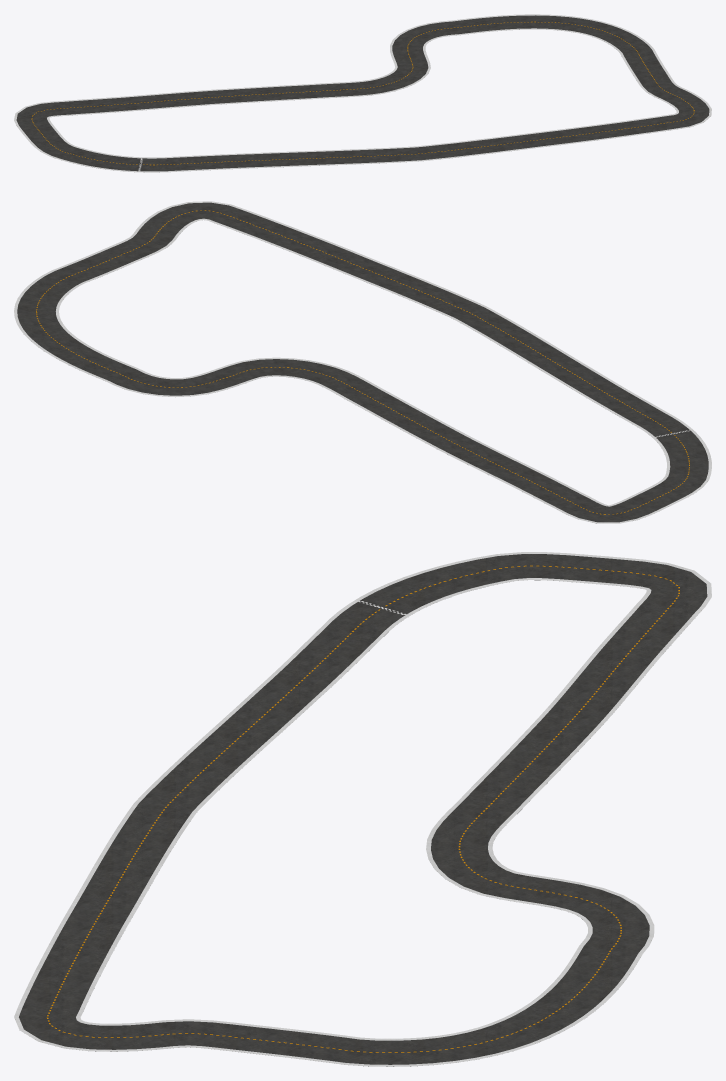
The model's file is 2022_october_open.dae.
The picture shows the model from 3 angles, top to bottom: view 1: azimuth 30°, elevation 25°; view 2: azimuth 150°, elevation 25°; view 3: azimuth 270°, elevation 25°; orthographic projection. The views are drawn at different scales.
Visible parts, largest first — view 1: road, il, ol, cl; view 2: road, il, ol, cl; view 3: road, il, ol, cl.
Part boxes in pixels (x1,y1,x2,y2): road: (16, 15, 709, 171); il: (14, 14, 711, 172); ol: (47, 28, 678, 158); cl: (31, 21, 694, 165); road: (17, 202, 708, 523); il: (14, 201, 711, 523); ol: (55, 218, 670, 506); cl: (36, 210, 689, 514); road: (19, 554, 707, 1066); il: (14, 552, 711, 1066); ol: (76, 578, 651, 1040); cl: (47, 565, 679, 1052).
Size of what is drawn, in the model's own units: 19.52 by 11.19 by 0.0015.
5 materials, 5 textured.
